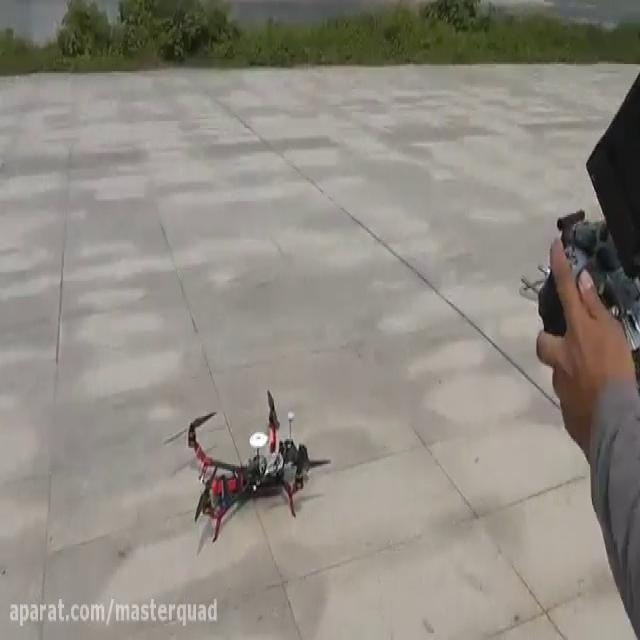drone: (162, 388, 332, 546)
